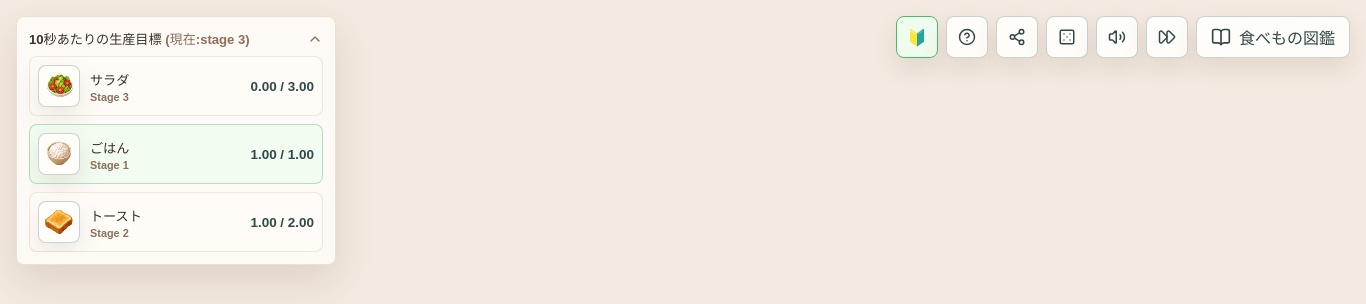
Test: StageHud › collapses and expands additional goals
Step 1. Click the button "10秒あたりの生産目標 (現在:stage 3)" → [176, 38], box [29,29,323,48]
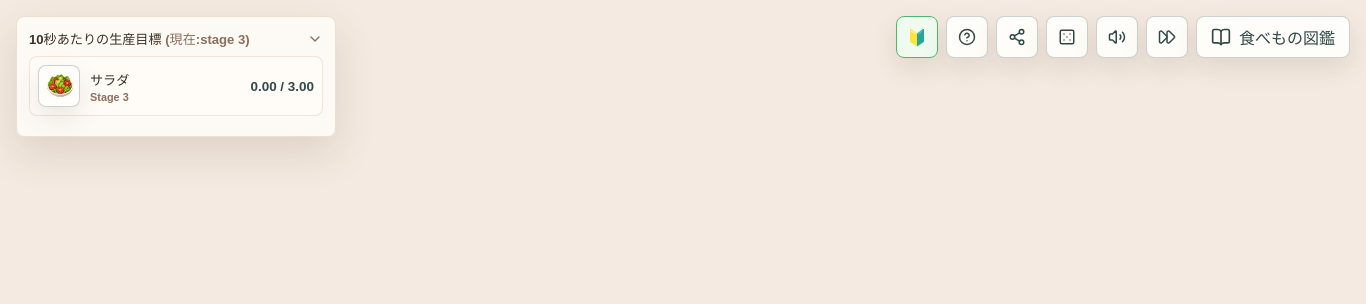
Result: the button with aria-label "目標一覧を展開する" is collapsed at [29,29,323,48]
